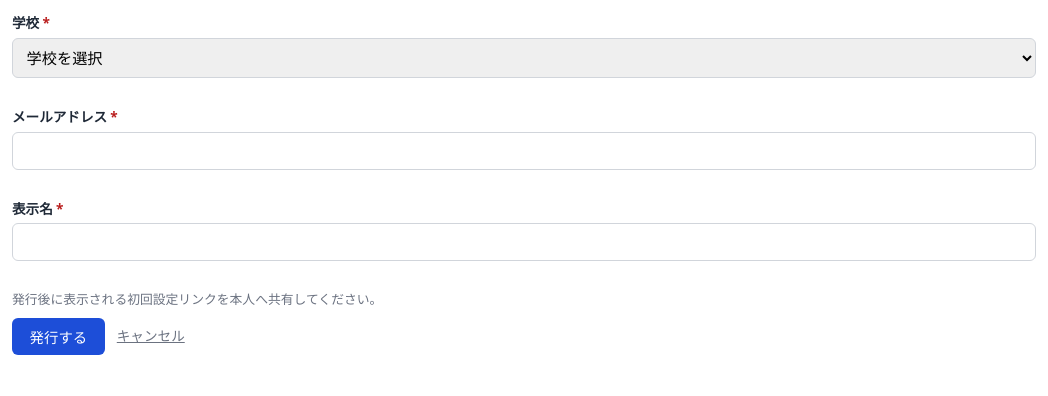
SystemStaffCreateForm (#508 system_admin 発行フォーム) › 学校を選ばずに他項目を埋めても、学校エラーで送信しない
Step 1. Type "admin@example.com" into the field labelled "メールアドレス" → {"x": 524, "y": 150}, box 12,132 -> 1036,170
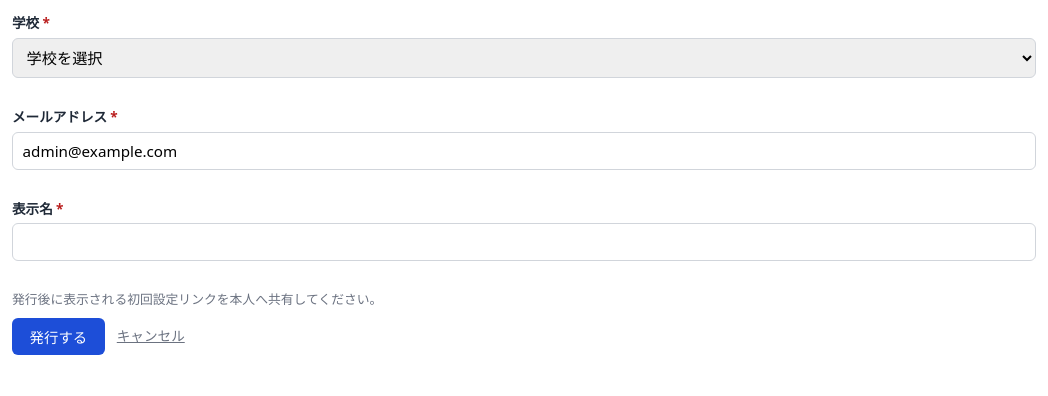
Step 2. Type "学校管理者A" into the field labelled "表示名" → {"x": 524, "y": 242}, box 12,223 -> 1036,261
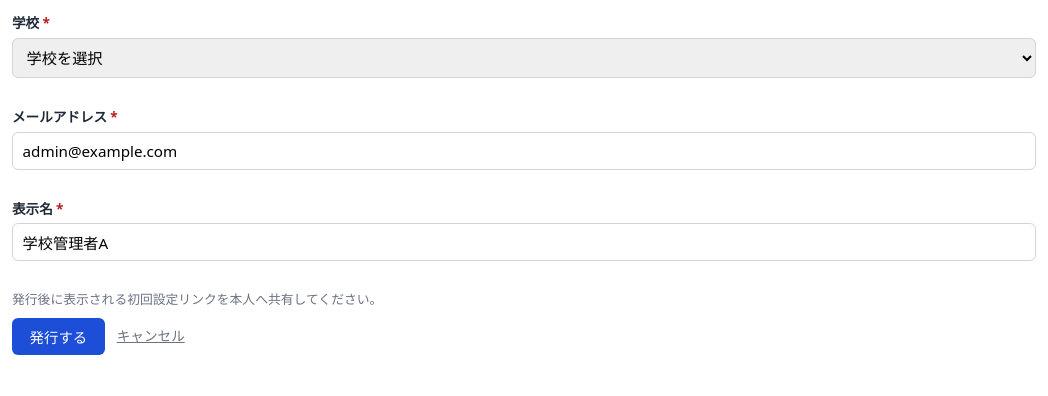
Step 3. Click the button "発行する" → {"x": 58, "y": 336}, box 12,318 -> 105,355
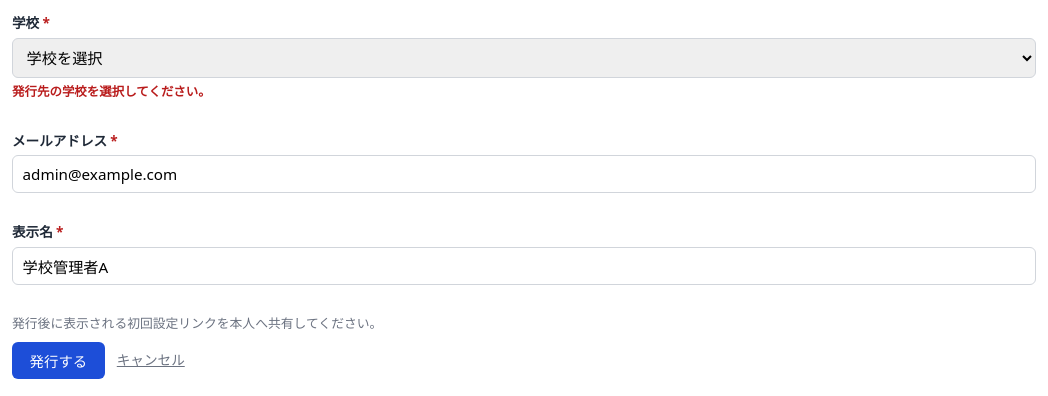
Expected: the text "発行先の学校を選択してください。" is shown, 12,83 -> 211,100
